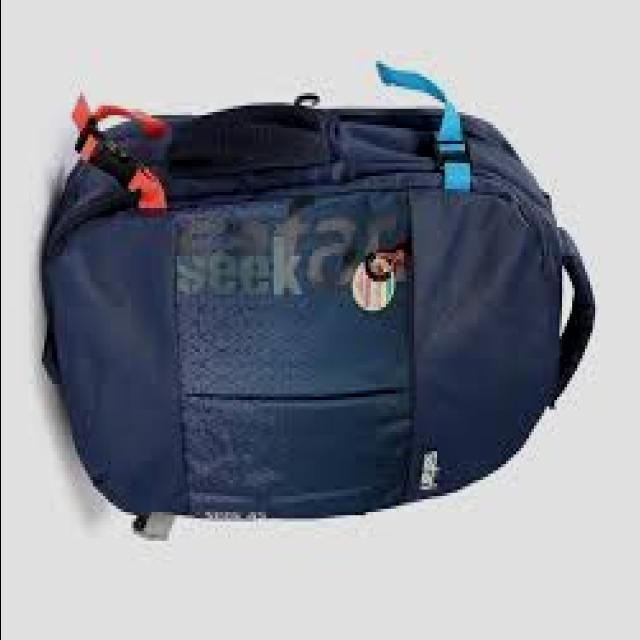backpack: (42, 62, 598, 542)
